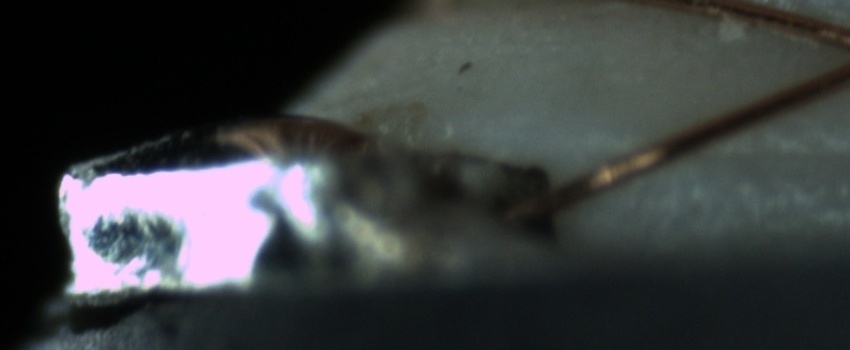DL: (681, 120, 848, 187)
